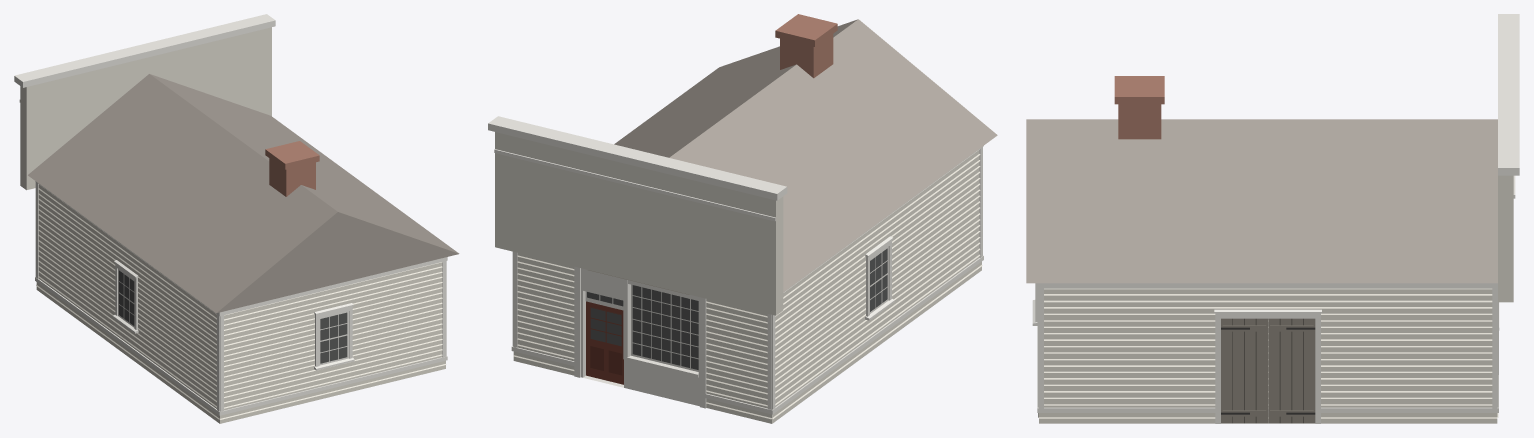
The model's file is recon_1835_gifford_c1_010__inferred_1835.glb.
The picture shows the model from 3 angles, left to right: view 1: azimuth 30°, elevation 25°; view 2: azimuth 150°, elevation 25°; view 3: azimuth 270°, elevation 25°; orthographic projection. The views are drawn at different scales.
Parts seen in each view (by area): view 1: recon_1835_gifford_c1_010__inferred_1835; view 2: recon_1835_gifford_c1_010__inferred_1835; view 3: recon_1835_gifford_c1_010__inferred_1835.
Boxes of the visible parts, <box> form: recon_1835_gifford_c1_010__inferred_1835: <box>14,14,459,423</box>; recon_1835_gifford_c1_010__inferred_1835: <box>488,14,997,423</box>; recon_1835_gifford_c1_010__inferred_1835: <box>1026,14,1519,423</box>.
Size of the model in its own units: 7.16 by 5.81 by 9.69.
